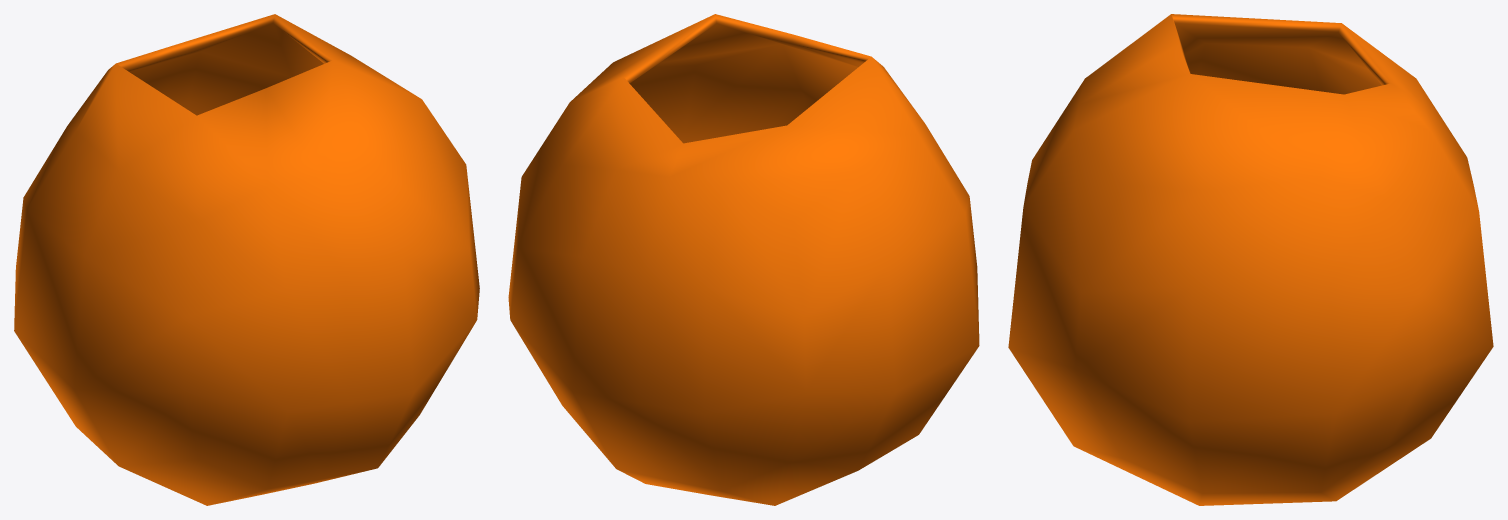
File: Prison_Robe.fbx
The picture shows the model from 3 angles, left to right: view 1: azimuth 30°, elevation 25°; view 2: azimuth 150°, elevation 25°; view 3: azimuth 270°, elevation 25°; orthographic projection. The views are drawn at different scales.
Visible parts, largest first — view 1: Prison_Robe; view 2: Prison_Robe; view 3: Prison_Robe.
Boxes of the visible parts, bbox=[...] form: Prison_Robe: bbox=[14, 14, 479, 505]; Prison_Robe: bbox=[508, 14, 979, 505]; Prison_Robe: bbox=[1008, 14, 1493, 505].
Size of the model in its own units: 2.14 by 2.15 by 2.13.
